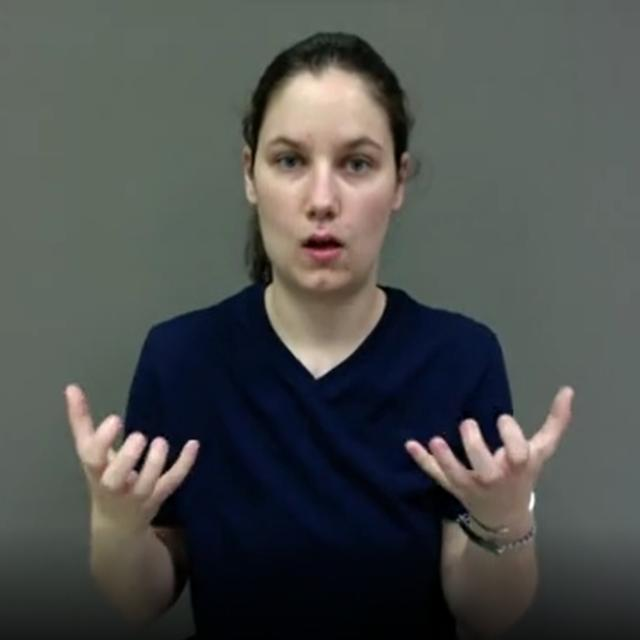want: (65, 384, 574, 528)
